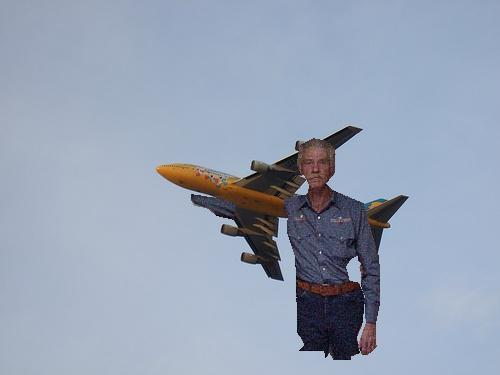tampered: (192, 139, 380, 360)
